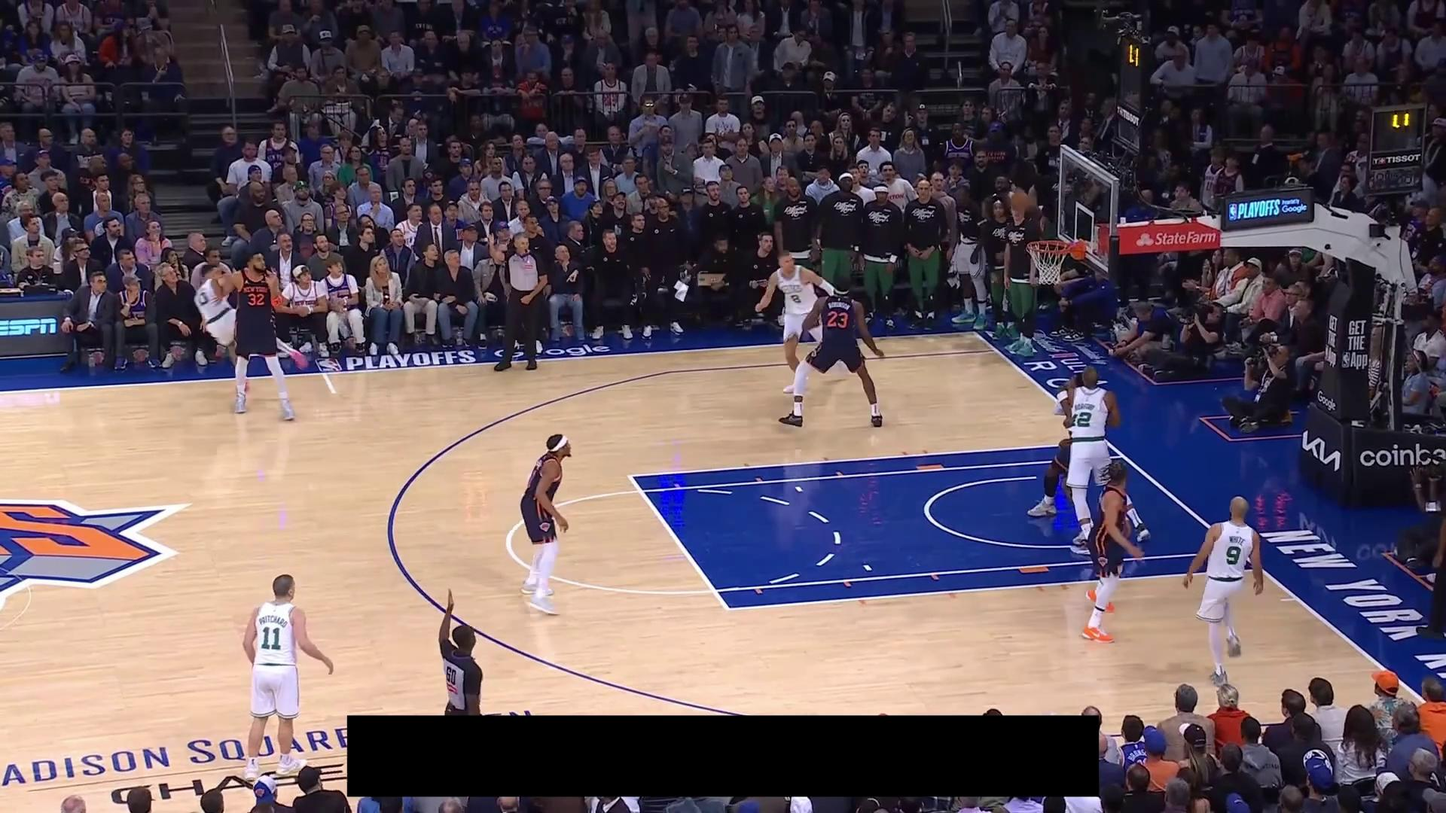ball: (1008, 188, 1034, 215)
number: (261, 626, 282, 651), (826, 310, 849, 329), (1073, 410, 1092, 428), (1226, 546, 1241, 565), (247, 291, 265, 306), (197, 291, 209, 306), (789, 293, 802, 305)
player: (239, 574, 334, 785), (1054, 362, 1152, 555), (776, 272, 886, 430), (1182, 494, 1264, 688), (194, 262, 309, 396), (212, 248, 298, 422), (1079, 458, 1146, 644), (1027, 364, 1094, 544), (754, 248, 834, 395), (517, 432, 573, 617)
referee: (488, 230, 549, 373), (438, 586, 485, 716), (1414, 514, 1446, 642)
rim: (1026, 239, 1072, 254)
